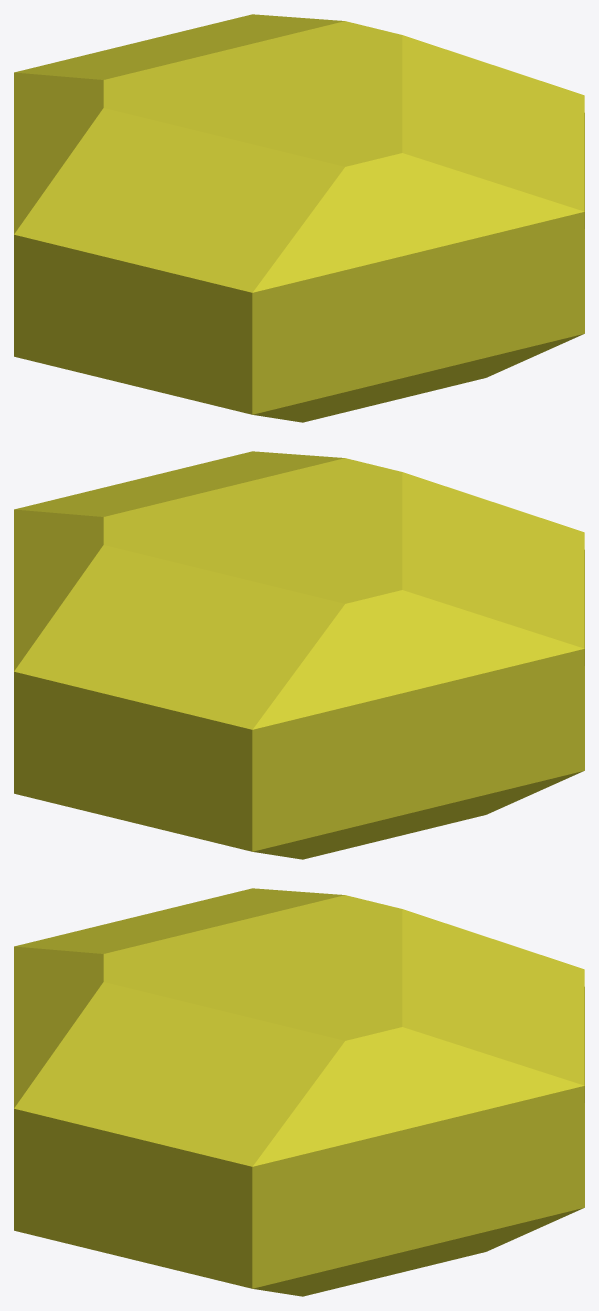
Rendered from Jem_12.fbx.
3 views of the same model, one above another, from view 1: azimuth 30°, elevation 25°; view 2: azimuth 150°, elevation 25°; view 3: azimuth 270°, elevation 25° (orthographic).
Visible parts, largest first — view 1: Jem_12; view 2: Jem_12; view 3: Jem_12.
Boxes of the visible parts, bbox=[...] form: Jem_12: bbox=[14, 14, 584, 422]; Jem_12: bbox=[14, 451, 584, 859]; Jem_12: bbox=[14, 888, 584, 1296].
Bounding box in the file's own units: 46.6 × 17.56 × 40.35.
